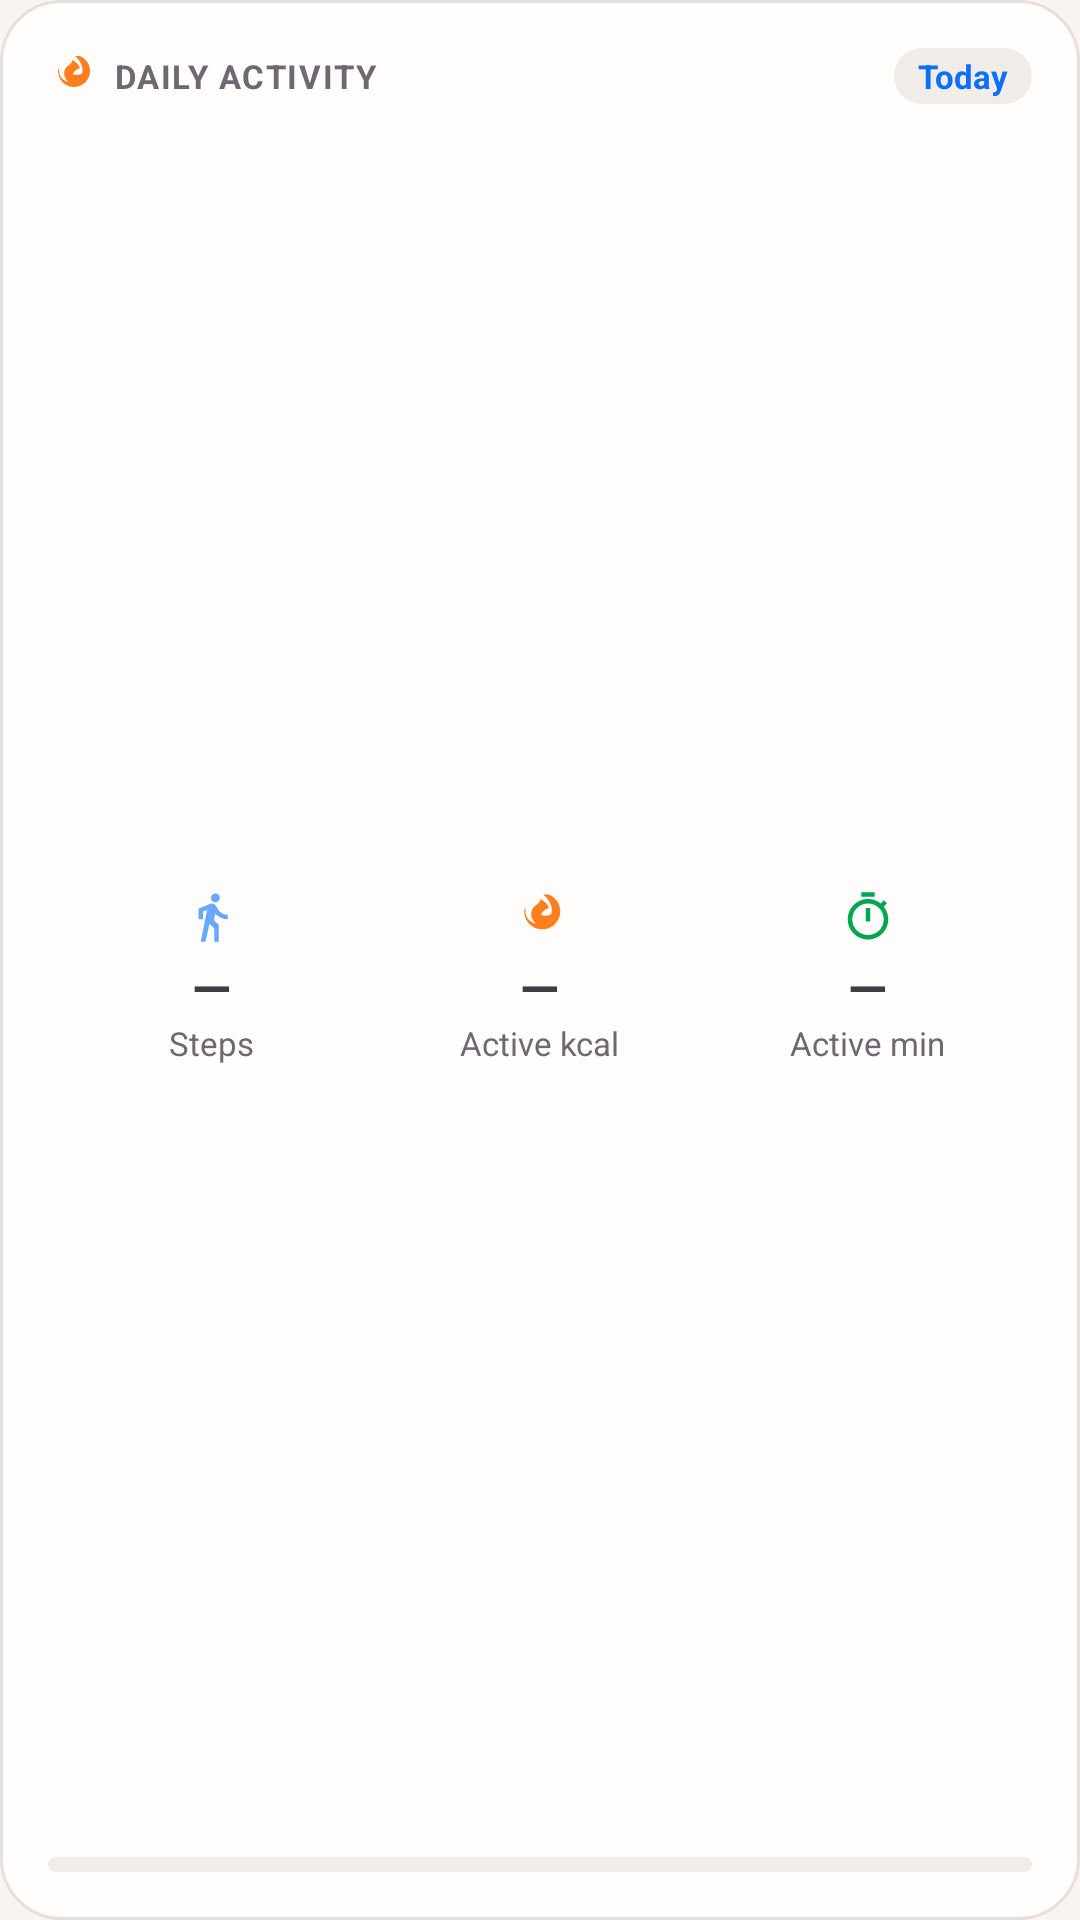

Named icons in this screenshot (1080x1920) and their bounding boxes, bbox=(x1, y1, x2, y2):
widget flame: bbox=(58, 56, 90, 87), bbox=(524, 894, 561, 930)
widget timer: bbox=(847, 892, 889, 940)
